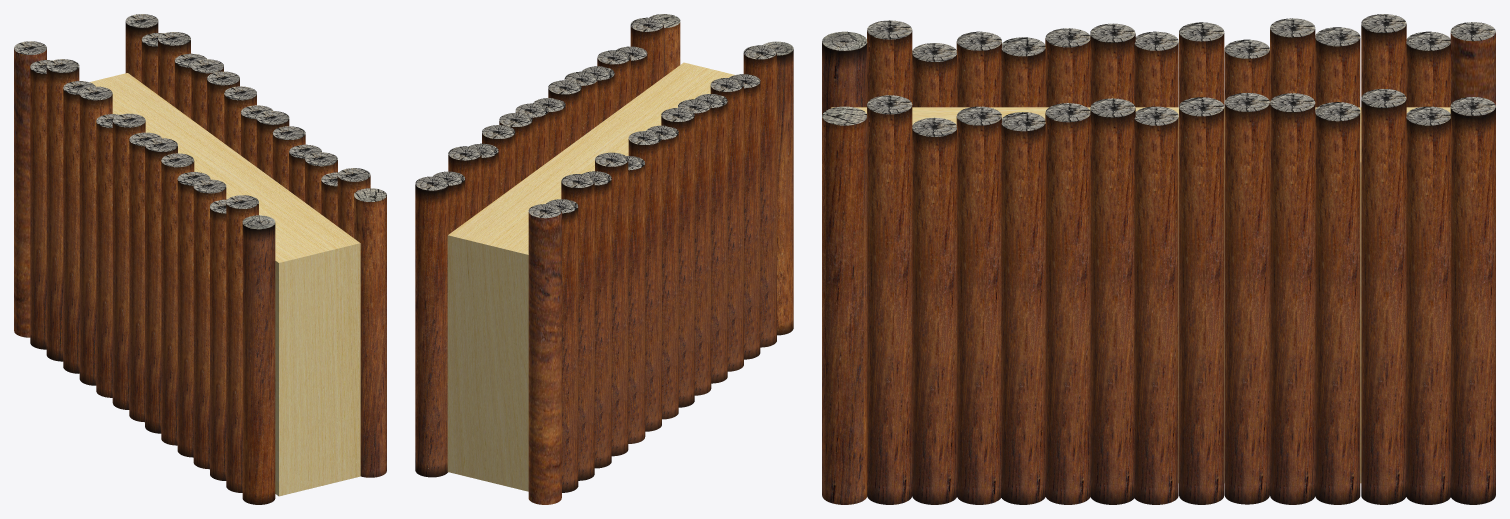
Rendered from wood_wall_01.fbx.
3 renders of one model, left to right at view 1: azimuth 30°, elevation 25°; view 2: azimuth 150°, elevation 25°; view 3: azimuth 270°, elevation 25°, orthographic. The views are drawn at different scales.
Visible parts, largest first — view 1: pasted__pasted__pasted__pasted__pCylinder1 (×15), pCube1, pasted__pasted__pasted__pasted__pasted__pCylinder1 (×3), pasted__pasted__pasted__pCylinder1 (×11), pasted__pasted__pCylinder1; view 2: pasted__pasted__pasted__pasted__pCylinder1 (×15), pCube1, pasted__pasted__pasted__pCylinder1 (×11), pasted__pasted__pasted__pasted__pasted__pCylinder1 (×3), pasted__pasted__pCylinder1; view 3: pasted__pasted__pasted__pCylinder1 (×11), pasted__pasted__pasted__pasted__pCylinder1 (×15), pasted__pasted__pCylinder1, pasted__pasted__pasted__pasted__pasted__pCylinder1 (×3), pCube1.
Boxes of the visible parts, x1,y1,x2,y2 form: pasted__pasted__pasted__pasted__pCylinder1 (×15): (14,41,386,477); pCube1: (89,73,360,496); pasted__pasted__pasted__pasted__pasted__pCylinder1 (×3): (210,195,275,504); pasted__pasted__pasted__pCylinder1 (×11): (125,14,337,422); pasted__pasted__pCylinder1: (241,105,272,166); pasted__pasted__pasted__pasted__pCylinder1 (×15): (482,14,743,504); pCube1: (447,62,734,491); pasted__pasted__pasted__pCylinder1 (×11): (415,50,678,477); pasted__pasted__pasted__pasted__pasted__pCylinder1 (×3): (729,41,793,359); pasted__pasted__pCylinder1: (533,98,565,160); pasted__pasted__pasted__pCylinder1 (×11): (956,31,1495,504); pasted__pasted__pasted__pasted__pCylinder1 (×15): (822,14,1495,504); pasted__pasted__pCylinder1: (1134,106,1178,504); pasted__pasted__pasted__pasted__pasted__pCylinder1 (×3): (822,20,956,115); pCube1: (831,107,1450,483).
Size of the model in its own units: 4.84 by 9.54 by 14.67.
